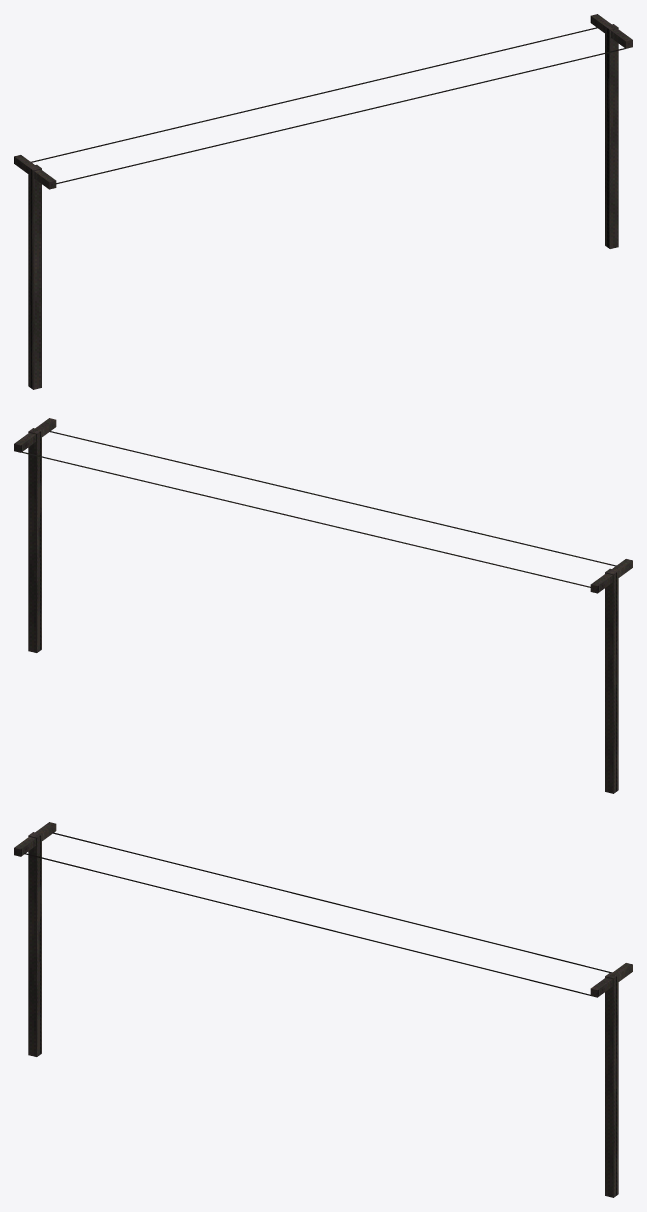
Rendered from tendedero.obj.
3 renders of one model, top to bottom at view 1: azimuth 30°, elevation 25°; view 2: azimuth 150°, elevation 25°; view 3: azimuth 330°, elevation 25°, orthographic.
Parts seen in each view (by area): view 1: tendedero; view 2: tendedero; view 3: tendedero.
Part boxes in pixels (x1=…): tendedero: x1=14, y1=14, x2=632, y2=389; tendedero: x1=14, y1=418, x2=632, y2=793; tendedero: x1=14, y1=822, x2=632, y2=1197.
Bounding box in the file's own units: 6.7 × 2.4 × 0.7.
2 materials, 2 textured.
